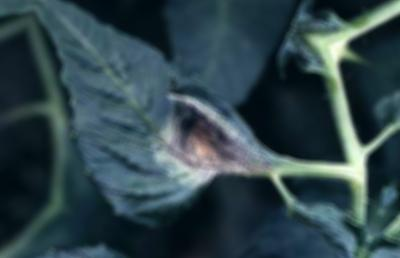Tomato leaf late blight: (0, 0, 306, 258)
